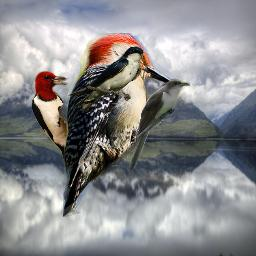Cuckoo: (126, 78, 190, 174)
Swallow: (67, 46, 144, 113)
Woodpecker: (63, 33, 181, 217), (31, 71, 74, 165)
